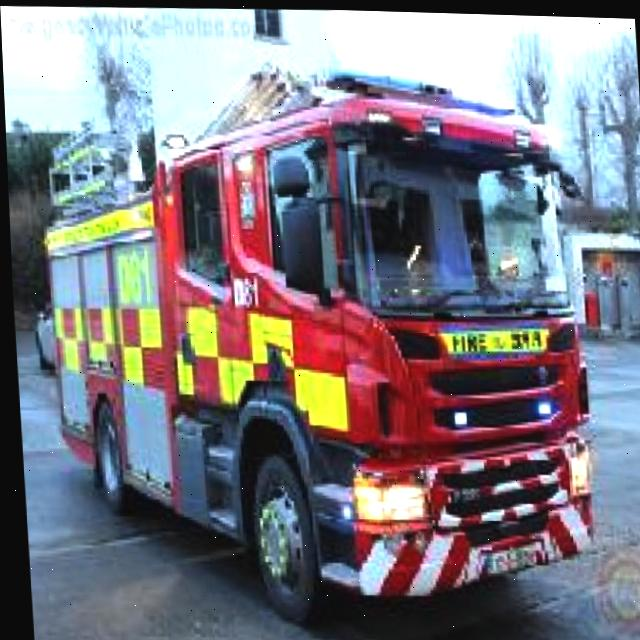emergency: (23, 49, 605, 636)
